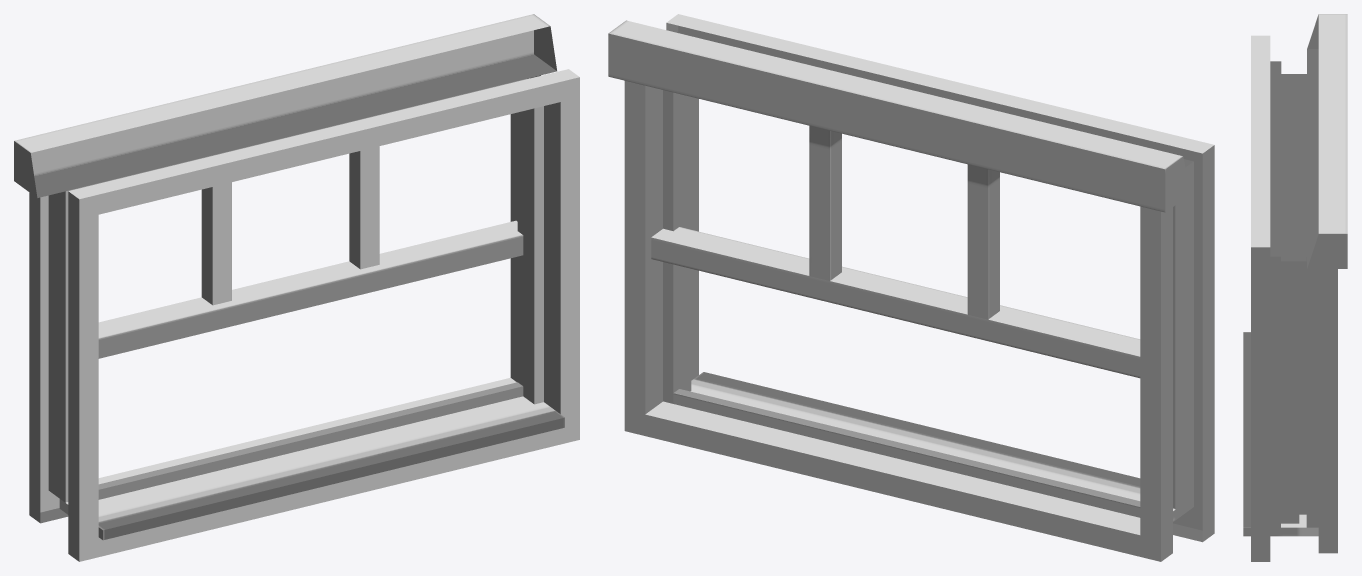
The model's file is office_pack_demoRoom_window_large.fbx.
3 renders of one model, left to right at view 1: azimuth 30°, elevation 25°; view 2: azimuth 150°, elevation 25°; view 3: azimuth 270°, elevation 25°, orthographic. The views are drawn at different scales.
Parts seen in each view (by area): view 1: office_pack_demoRoom_window_large; view 2: office_pack_demoRoom_window_large; view 3: office_pack_demoRoom_window_large.
Boxes of the visible parts, bbox=[...] form: office_pack_demoRoom_window_large: bbox=[14, 14, 579, 561]; office_pack_demoRoom_window_large: bbox=[608, 14, 1214, 561]; office_pack_demoRoom_window_large: bbox=[1243, 14, 1347, 561].
Bounding box in the file's own units: 135 × 95 × 27.
